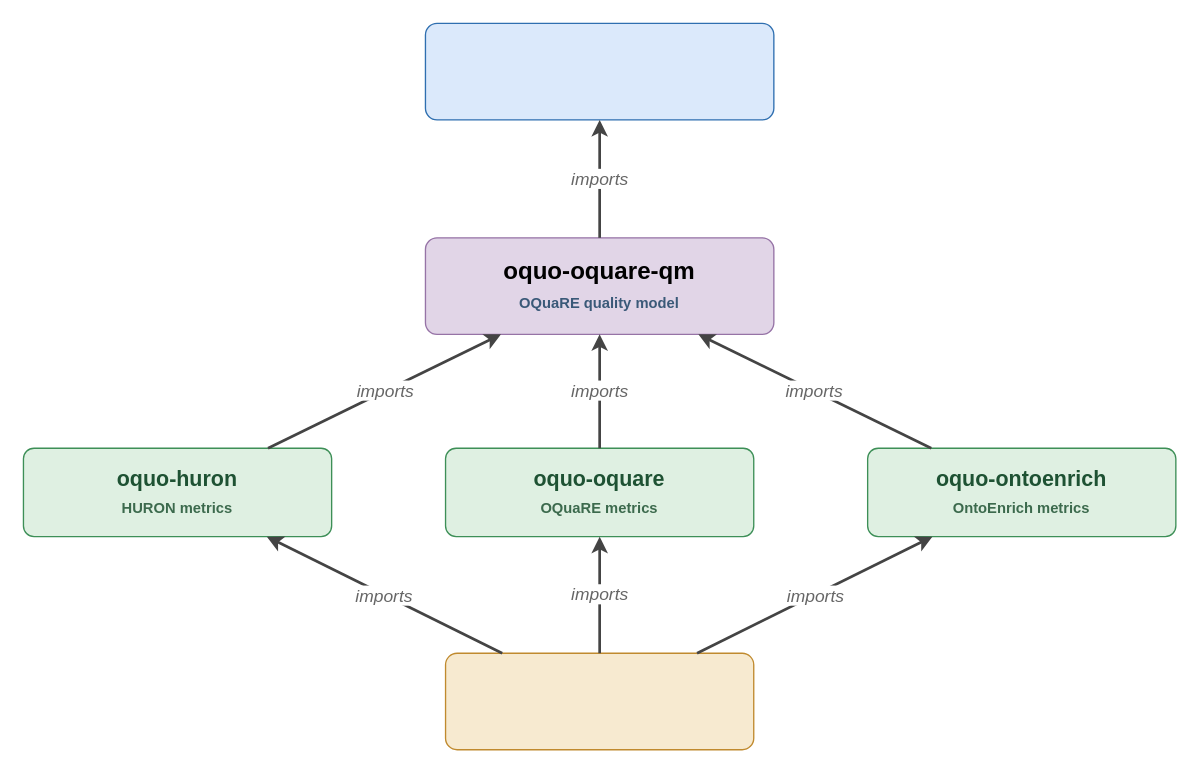
Some shapes in this 1199 by 773 pixel diagram are drawn without their labels. The shapes that lost their labels are listed below. From the top down, each one's box as (x1, y1, x2, y2) in pixels, then its label:
(424, 22, 774, 120): oquo-core QMO · EVAL · OBOE · IPO
(444, 652, 754, 750): oquo-qasar complete quality mode for qasar
